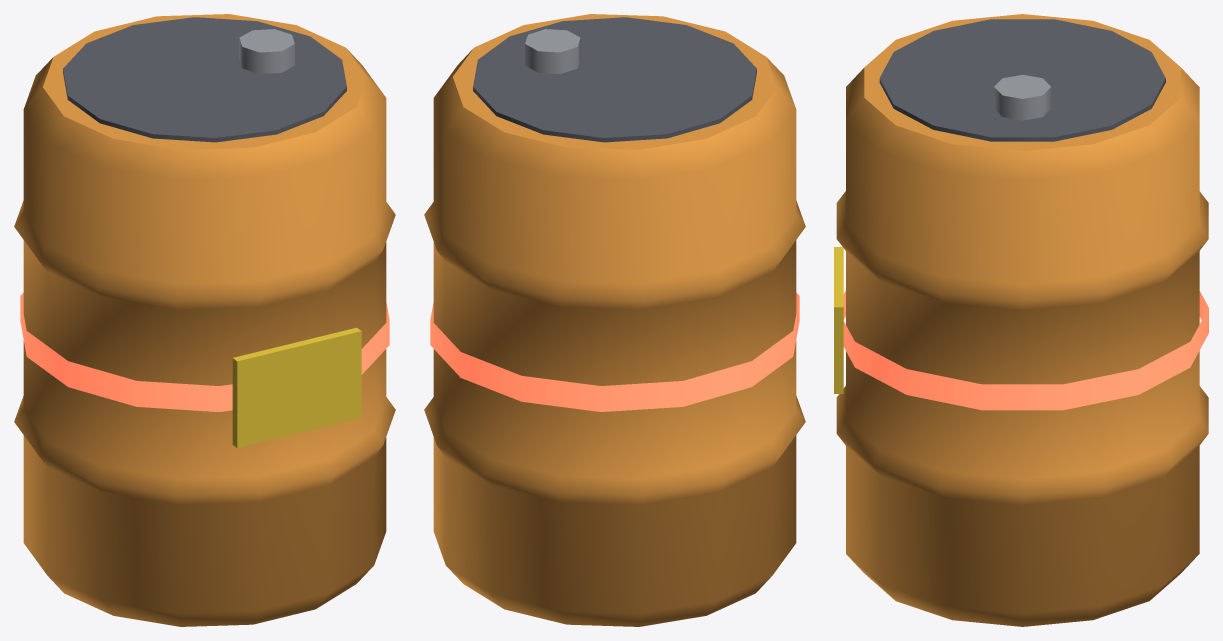
The model's file is barrel.glb.
3 views of the same model, side by side, from view 1: azimuth 30°, elevation 25°; view 2: azimuth 150°, elevation 25°; view 3: azimuth 270°, elevation 25° (orthographic).
Visible parts, largest first — view 1: barrel; view 2: barrel; view 3: barrel.
Part boxes in pixels (<box>): barrel: <box>14,14,395,626</box>; barrel: <box>424,14,805,626</box>; barrel: <box>834,14,1208,626</box>.
Size of the model in its own units: 0.8 by 1.16 by 0.785.
